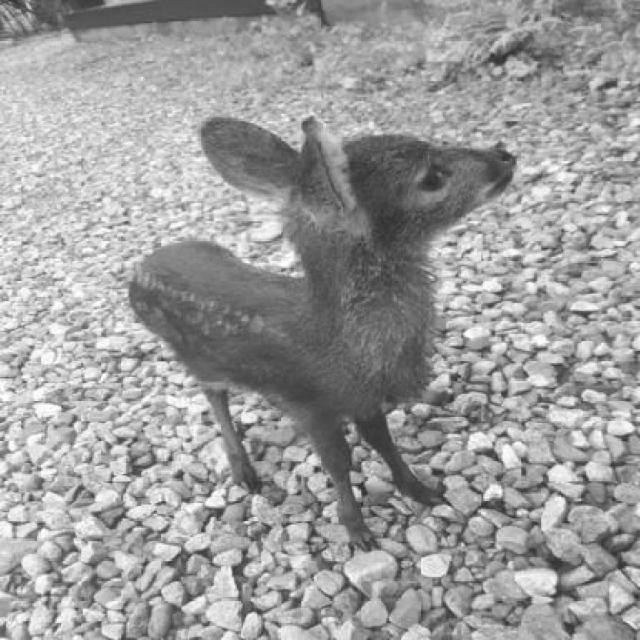Deer: (120, 94, 546, 554)
